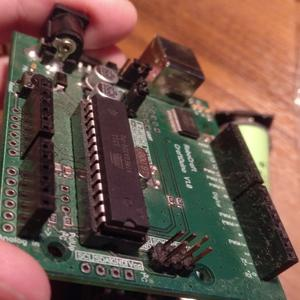duino: (4, 30, 283, 296)
